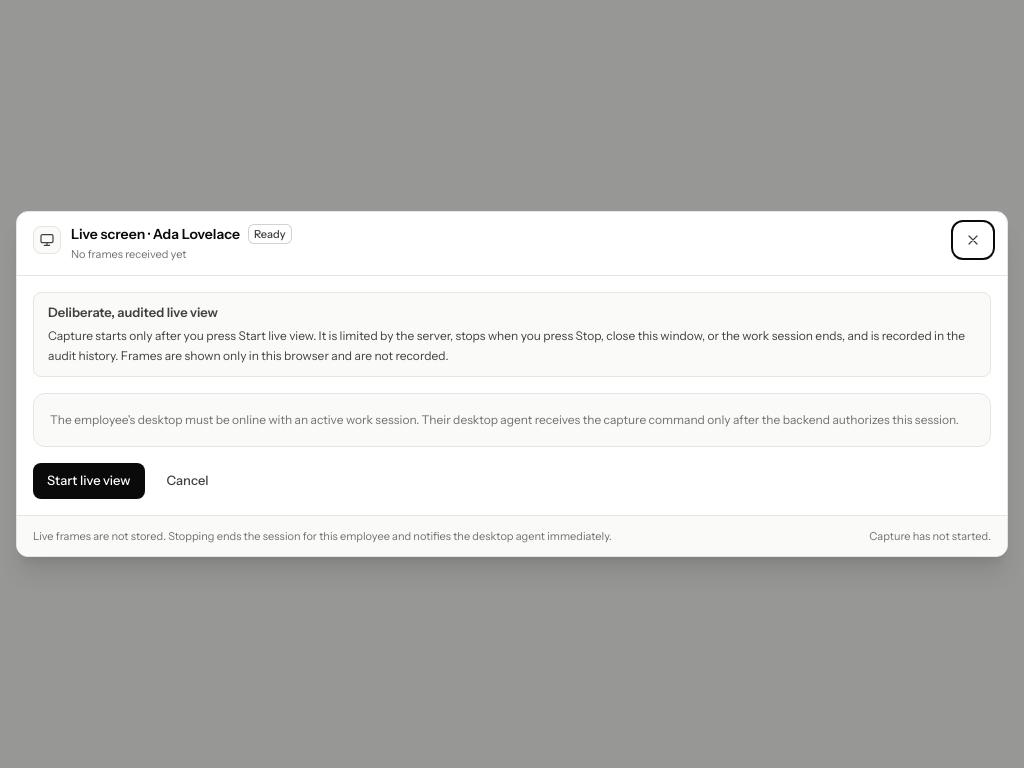
it: LiveScreenViewer › does nothing until Start is pressed, then uses a one-time ticket
The image size is (1024, 768).
Click the button "Start live view": (89, 481) [33,463,144,499]
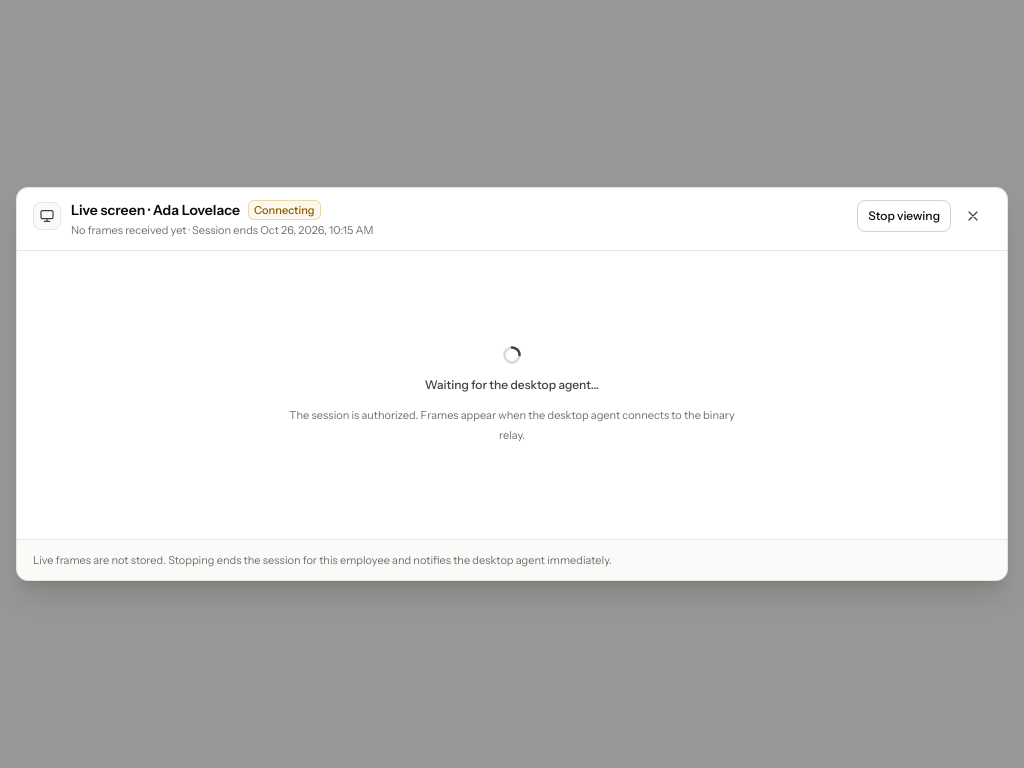
Expected: the text "Waiting for the desktop agent…" is shown, [425,377,599,393]
